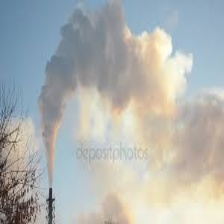smoke: (39, 6, 177, 180)
